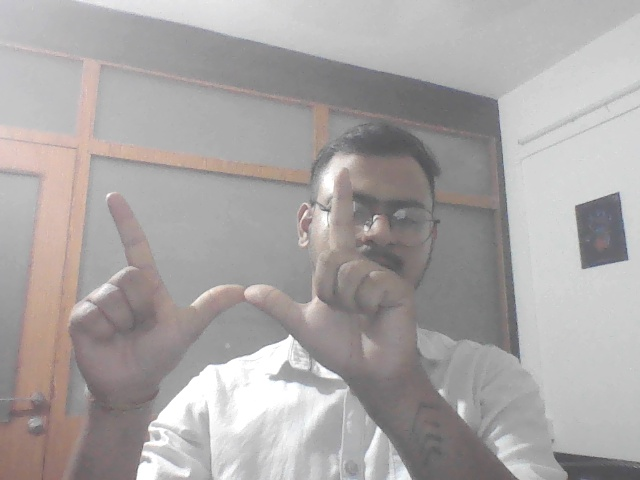Whatever: (63, 165, 432, 402)
